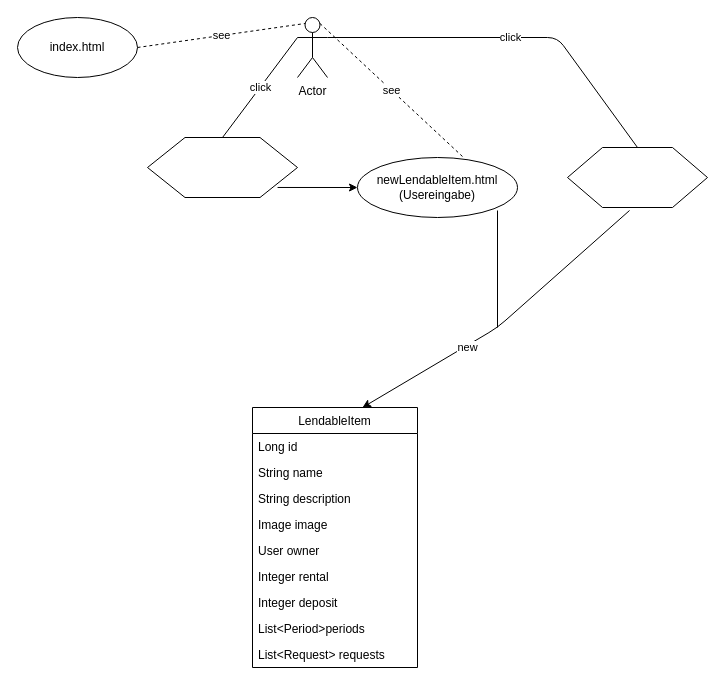
This 725x688 diagram has some shape labels left out. Here are the shapes that lost their labels. From the top down, the box of each, then its label:
(146, 136, 298, 198): Button: Verleihen
(566, 146, 708, 208): Button: Speichern
